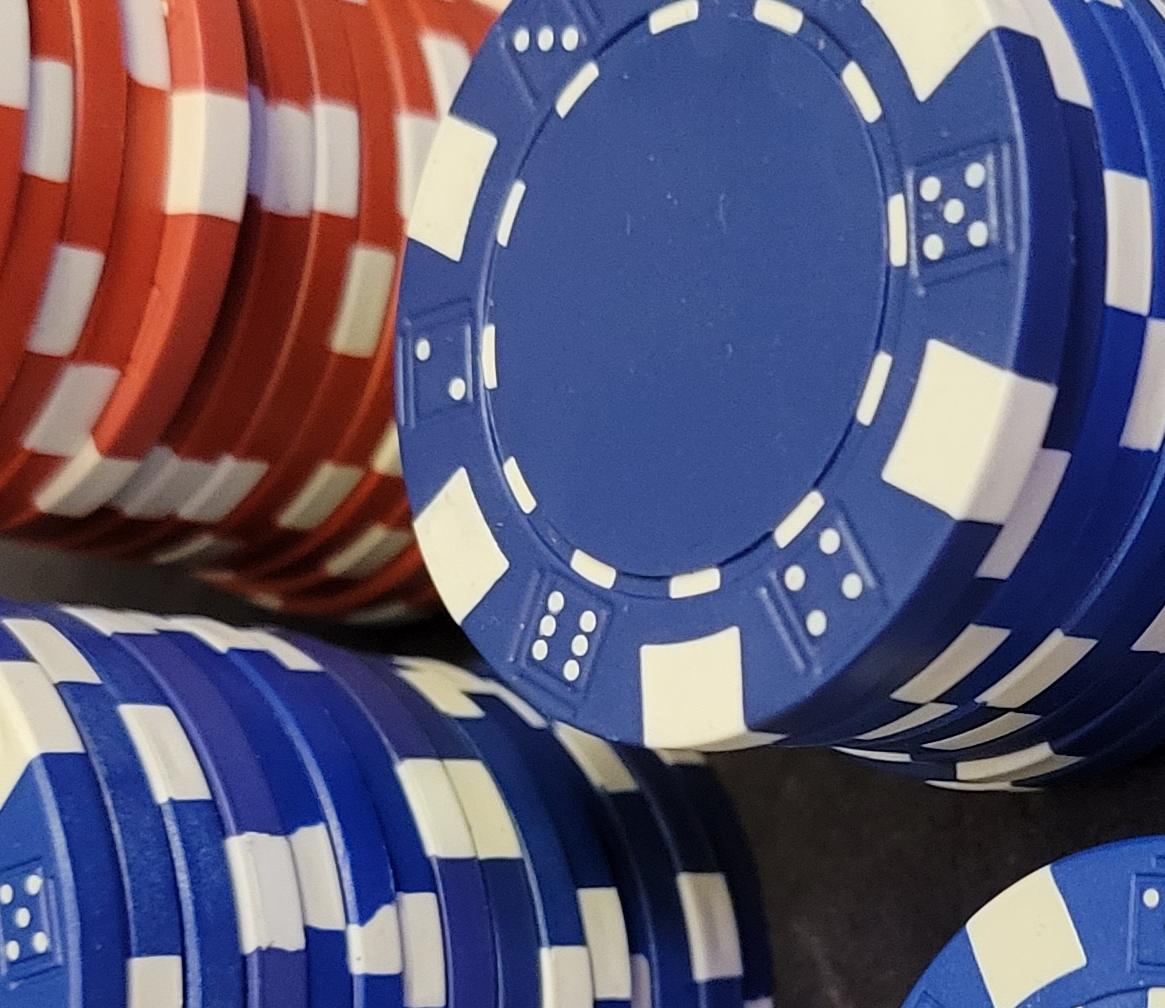Chip: (1, 209, 548, 1008)
